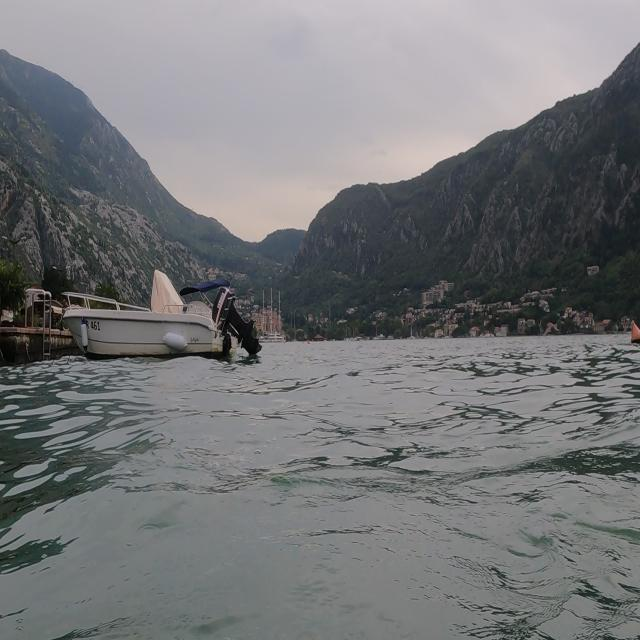boat: (60, 266, 262, 364)
buoy: (626, 317, 640, 352)
